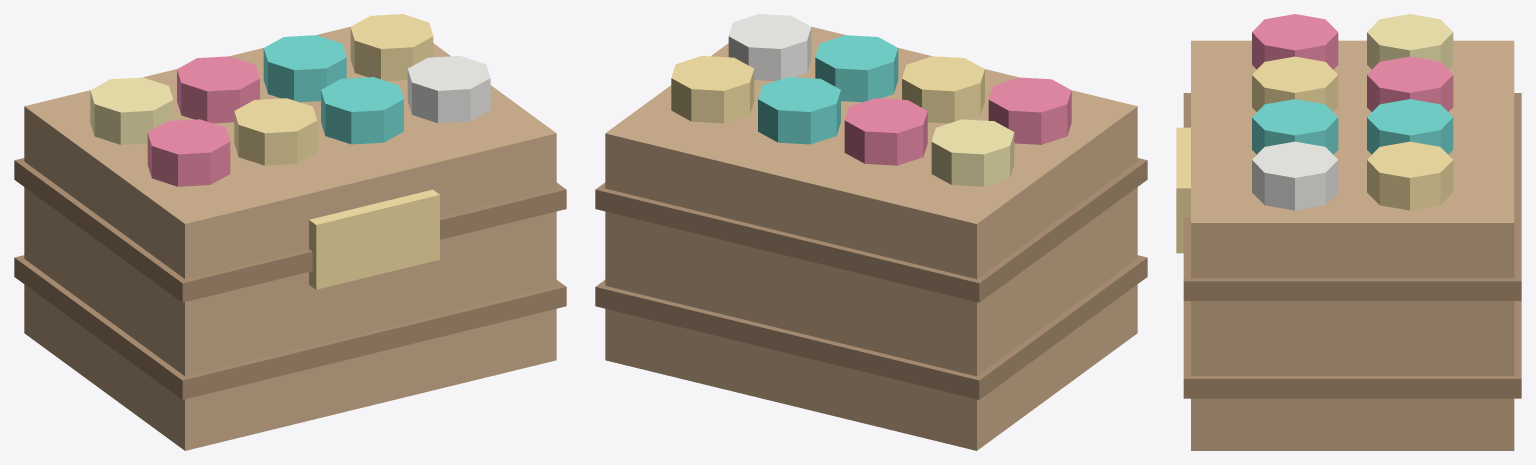
File: WaxCrate.fbx
3 renders of one model, left to right at view 1: azimuth 30°, elevation 25°; view 2: azimuth 150°, elevation 25°; view 3: azimuth 270°, elevation 25°, orthographic.
Parts seen in each view (by area): view 1: WaxCrate; view 2: WaxCrate; view 3: WaxCrate.
Boxes of the visible parts, <box> form: WaxCrate: <box>14,14,566,450</box>; WaxCrate: <box>595,14,1147,450</box>; WaxCrate: <box>1176,14,1521,450</box>.
Size of the model in its own units: 0.62 by 0.405 by 0.48.
